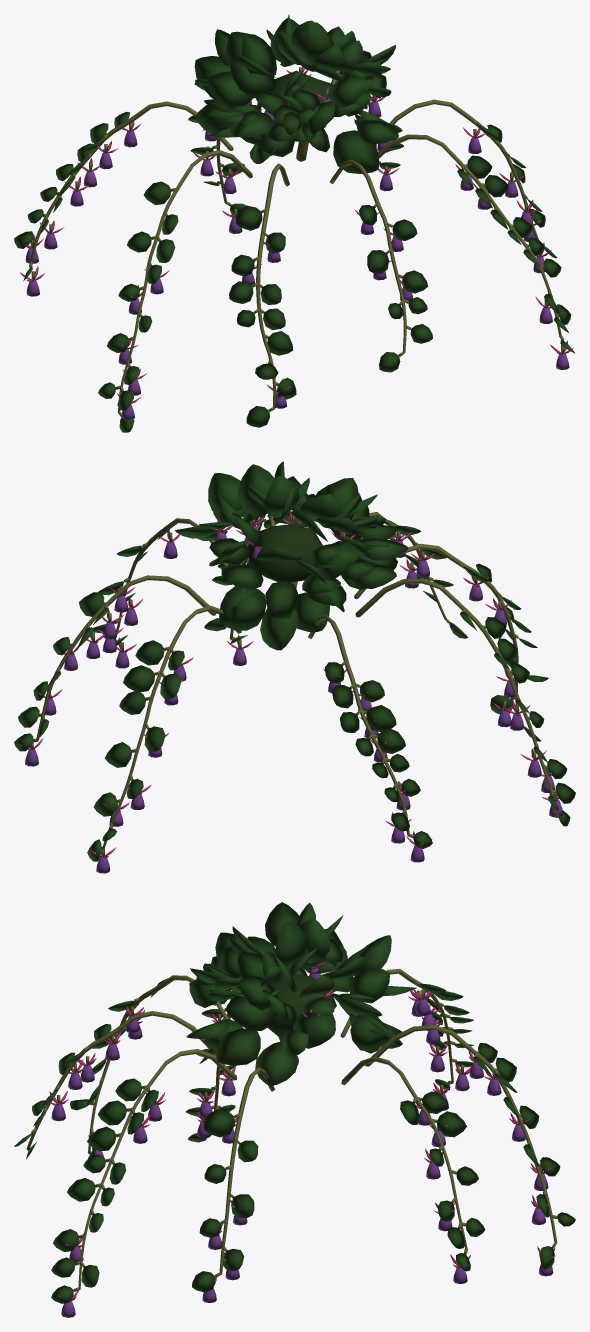
Rendered from basket_fuchsia.glb.
3 renders of one model, top to bottom at view 1: azimuth 30°, elevation 25°; view 2: azimuth 150°, elevation 25°; view 3: azimuth 270°, elevation 25°, orthographic. The views are drawn at different scales.
Parts seen in each view (by area): view 1: Sammel Pflanze, Sammel Putz, Sammel Blatt; view 2: Sammel Pflanze, Sammel Putz, Sammel Blatt; view 3: Sammel Pflanze, Sammel Putz, Sammel Blatt.
Boxes of the visible parts, x1,y1,x2,y2 form: Sammel Pflanze: (14, 14, 575, 432); Sammel Putz: (29, 67, 564, 416); Sammel Blatt: (272, 70, 333, 127); Sammel Pflanze: (14, 461, 575, 873); Sammel Putz: (30, 512, 559, 856); Sammel Blatt: (247, 524, 321, 582); Sammel Pflanze: (14, 902, 575, 1317); Sammel Putz: (26, 965, 557, 1291); Sammel Blatt: (267, 974, 336, 1038).
Size of the model in its own units: 0.6944 by 0.4796 by 0.7216.
